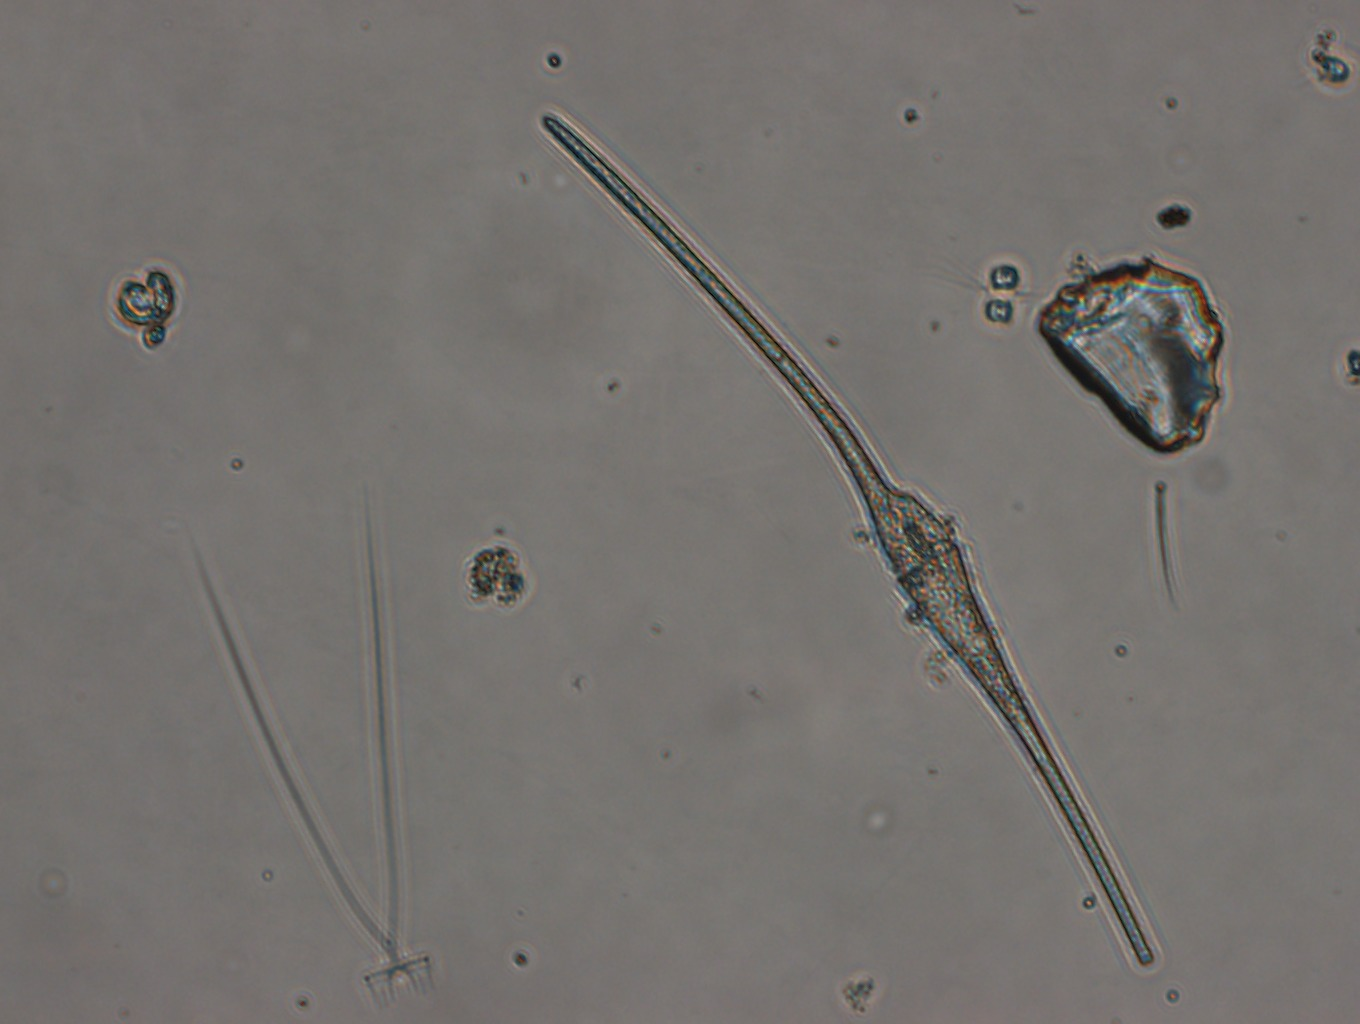ceratium fusus: (539, 106, 1160, 975)
